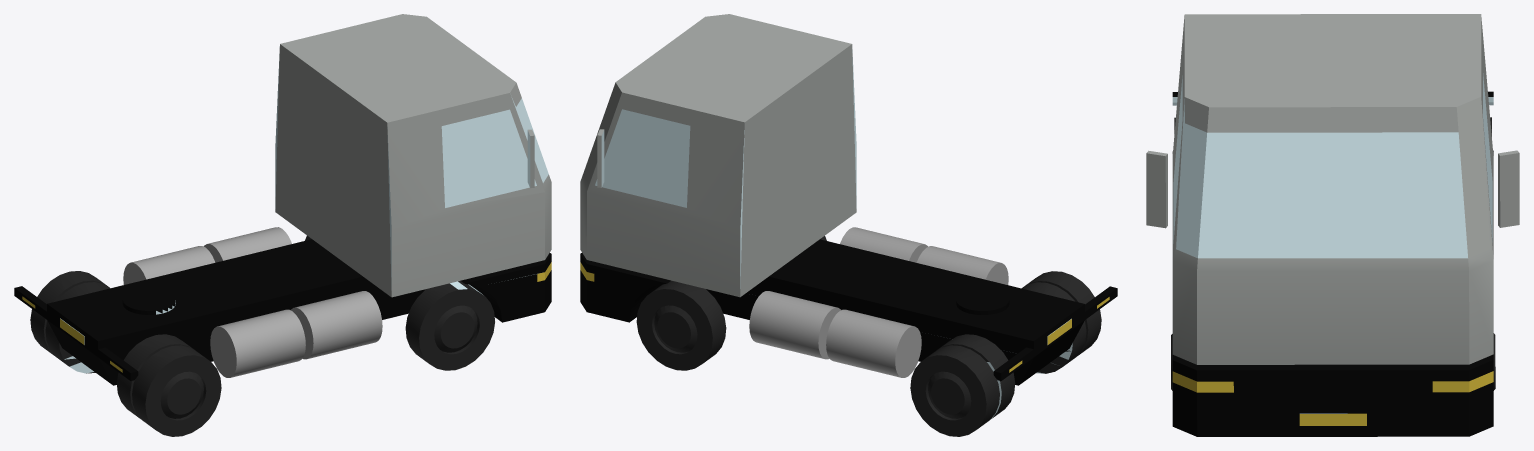
Rendered from bigTruckModel.glb.
3 views of the same model, side by side, from view 1: azimuth 30°, elevation 25°; view 2: azimuth 150°, elevation 25°; view 3: azimuth 270°, elevation 25° (orthographic). The views are drawn at different scales.
Parts seen in each view (by area): view 1: tractor; view 2: tractor; view 3: tractor.
Boxes of the visible parts, left/top/right/bottom form: tractor: left=14, top=14, right=551, bottom=436; tractor: left=580, top=14, right=1117, bottom=436; tractor: left=1146, top=14, right=1519, bottom=436.
Bounding box in the file's own units: 56.67 × 32.72 × 30.81.
